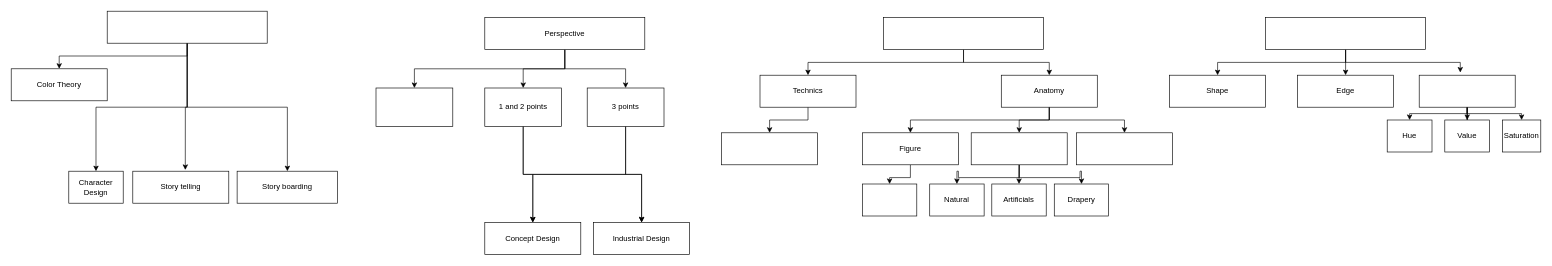
The diagram is 1552 pixels wide and 266 high, and some of its shapes have lost their labels. Each missing label, with the centre of its shape:
Advanced (Fish eye, ...): pixel 414 106
Basic elements of a picture: pixel 1345 33
Color: pixel 1467 91
Composition: pixel 187 27
Human Anatomy: pixel 889 199
Inking: pixel 769 148
Lightning: pixel 1124 148
Materials: pixel 1019 148
Rendering: pixel 963 33
